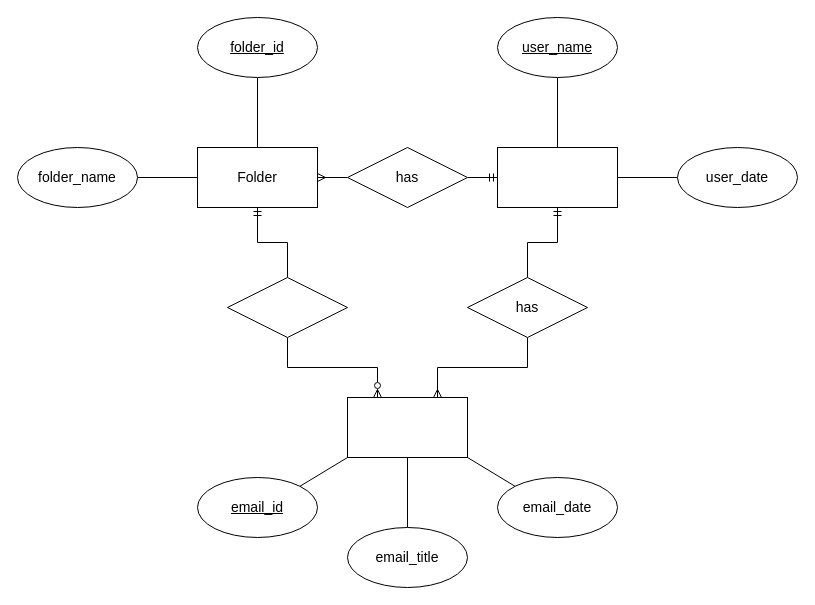
Image size: 815x605. Some labels were removed from this diagram. The shapes that lost their labels are listed below. From the top down, each one's centre as x and y in pixels, then its label:
pixel 557 177: User
pixel 287 307: contains
pixel 407 427: Email
